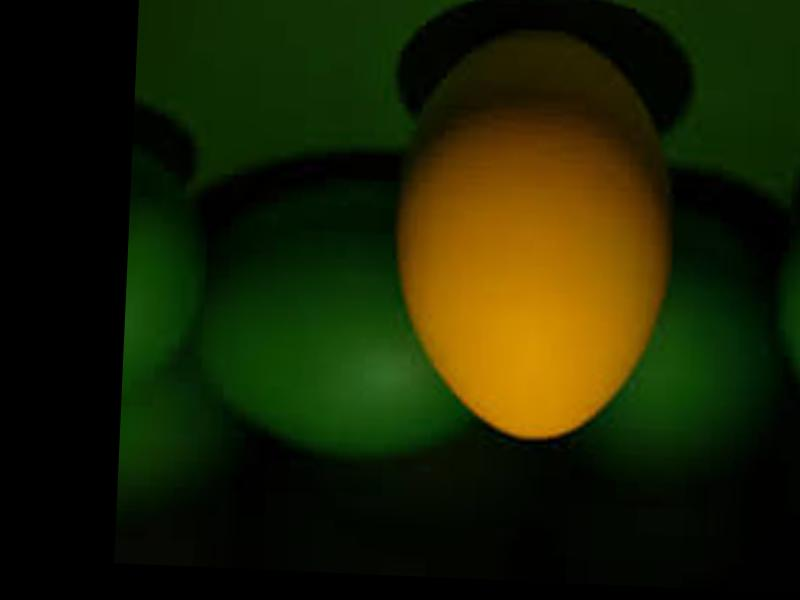Eggs: (387, 24, 681, 442)
